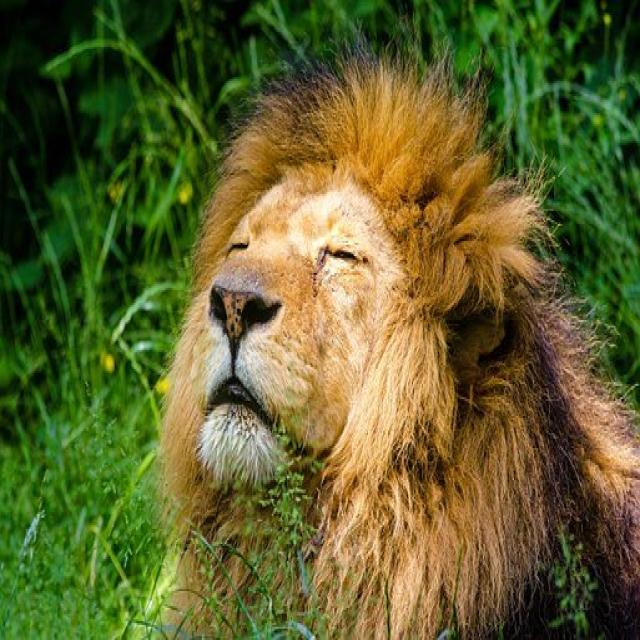Lion: (186, 96, 472, 557)
